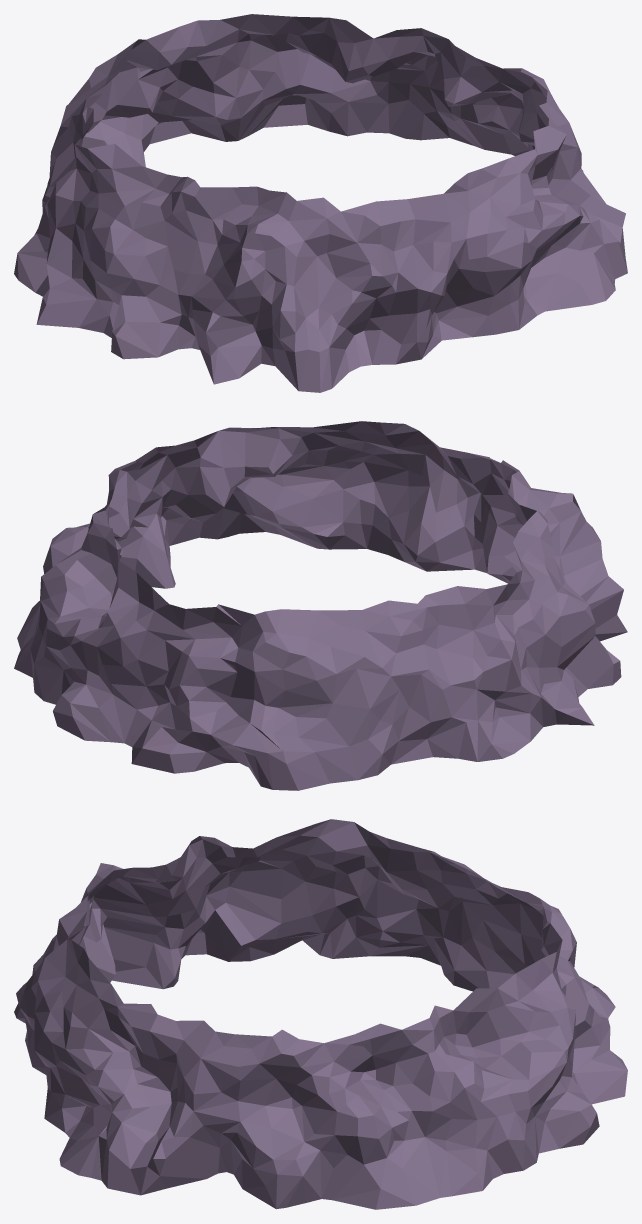
File: Plateau_Wall.fbx
3 views of the same model, one above another, from view 1: azimuth 30°, elevation 25°; view 2: azimuth 150°, elevation 25°; view 3: azimuth 270°, elevation 25° (orthographic). The views are drawn at different scales.
Parts seen in each view (by area): view 1: Plateau_Wall; view 2: Plateau_Wall; view 3: Plateau_Wall.
Part boxes in pixels (box(x1,y1,x2,y2)): Plateau_Wall: box(14, 14, 627, 392); Plateau_Wall: box(14, 421, 627, 790); Plateau_Wall: box(14, 819, 627, 1209).
Bounding box in the file's own units: 31.87 × 8.78 × 30.68.
